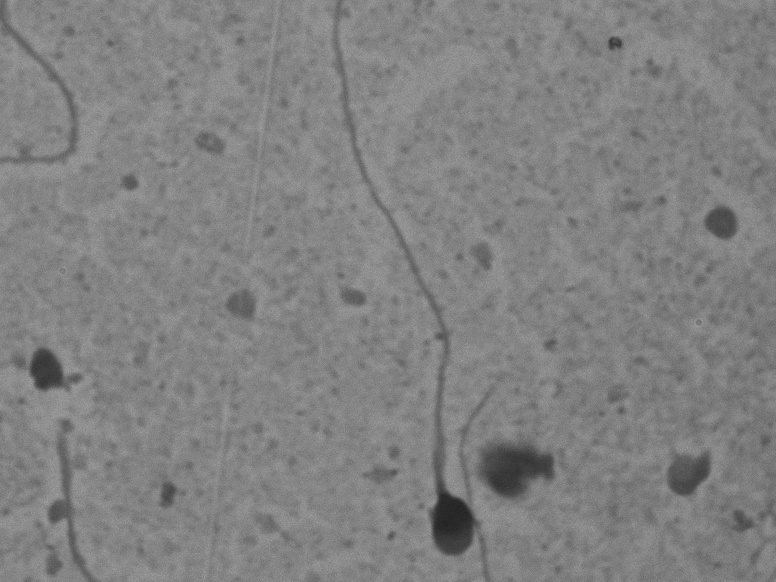Normal: (303, 14, 483, 560)
